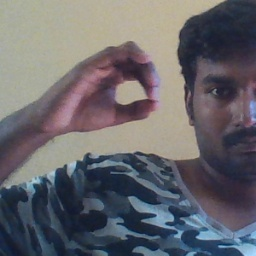O: (42, 39, 166, 135)
